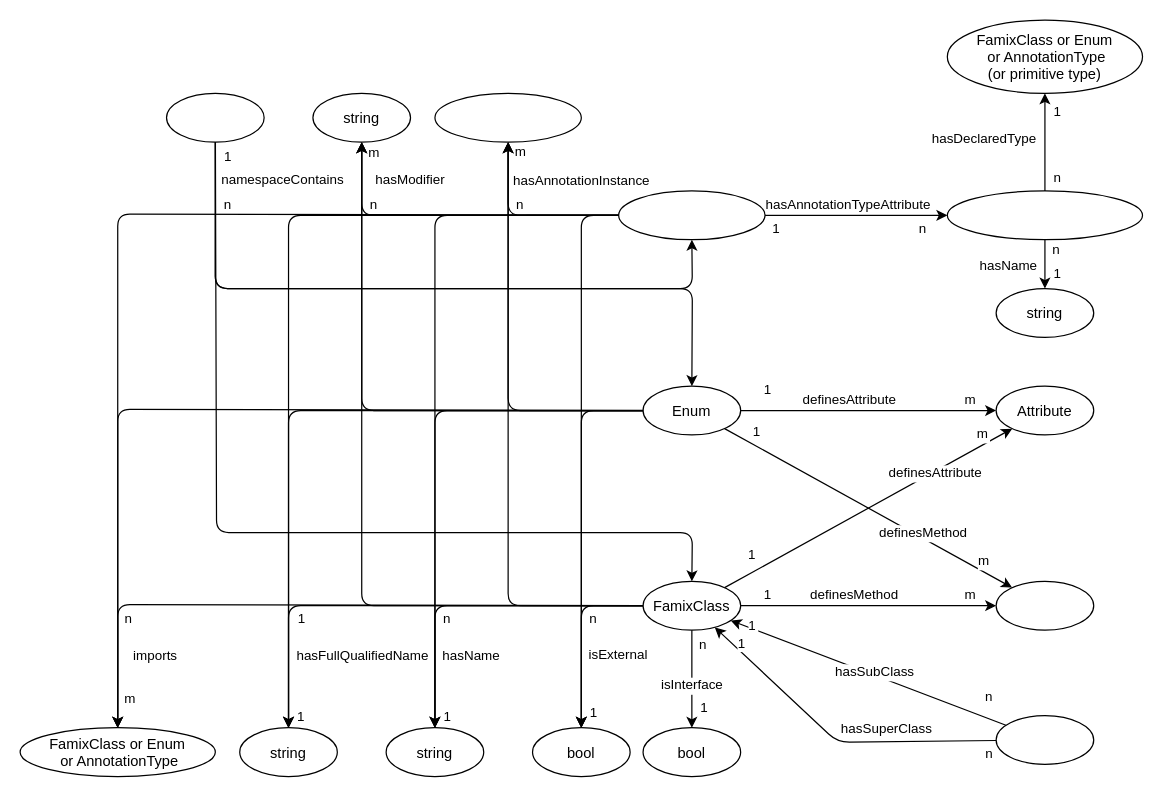
Image size: 1163x797. Some labels were removed from this diagram. The centre of each missing label's shape, as x and y in pixels:
"AnnotationInstance" belongs at pixel 507 117.
"AnnotationType" belongs at pixel 691 215.
"AnnotationTypeAttribute" belongs at pixel 1044 215.
"Inheritance" belongs at pixel 1044 739.
"Method" belongs at pixel 1044 605.
"Namespace" belongs at pixel 214 117.
